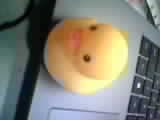duck: (34, 7, 119, 99)
